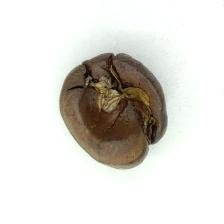NG: (73, 63, 154, 144)
